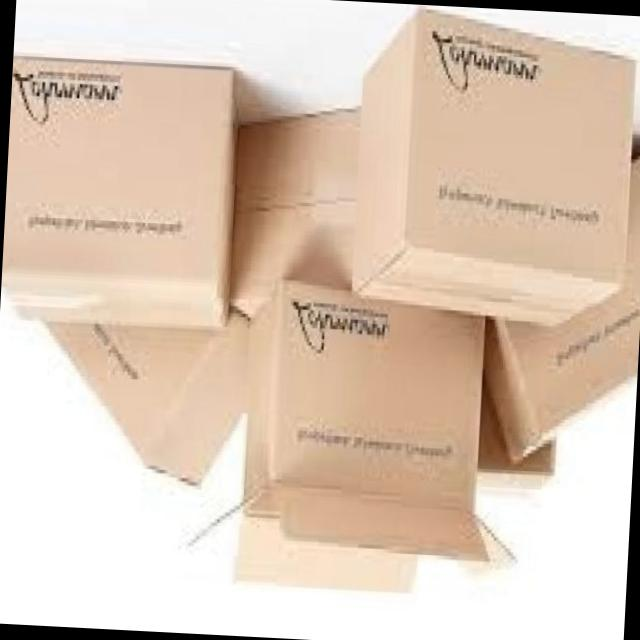cardboard paper: (352, 16, 632, 325), (244, 283, 484, 562), (1, 61, 233, 330), (478, 158, 640, 471), (46, 318, 246, 487)
